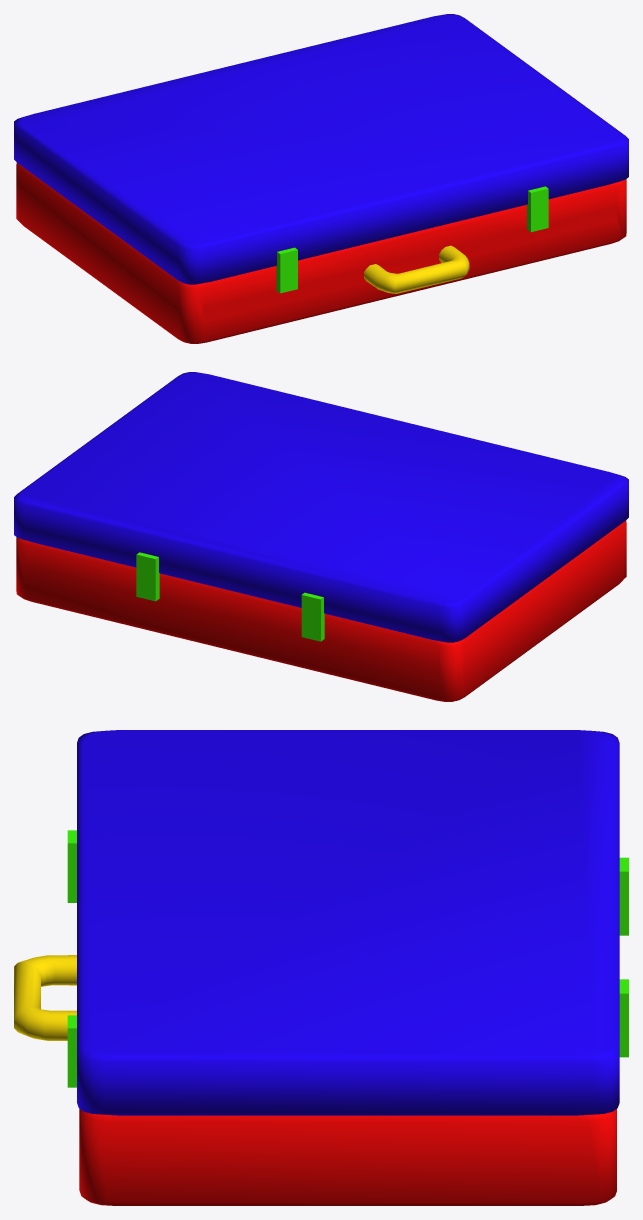
Rendered from DianaSuitcase.fbx.
3 renders of one model, top to bottom at view 1: azimuth 30°, elevation 25°; view 2: azimuth 150°, elevation 25°; view 3: azimuth 270°, elevation 25°, orthographic. The views are drawn at different scales.
Visible parts, largest first — view 1: Box001; view 2: Box001; view 3: Box001.
Boxes of the visible parts, x1,y1,x2,y2 form: Box001: [14, 14, 628, 343]; Box001: [14, 372, 628, 701]; Box001: [14, 730, 628, 1205].
Size of the model in its own units: 50.27 by 10.67 by 39.54.
